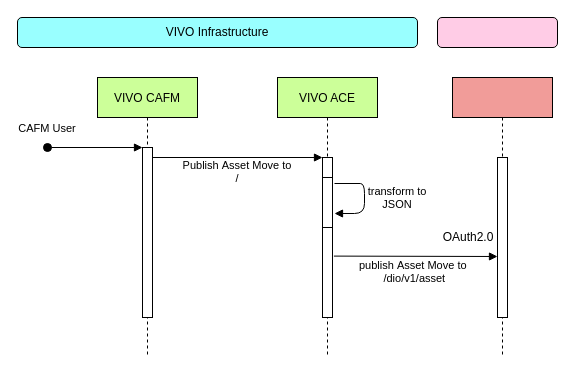
The diagram is 575 pixels wide and 375 high, and some of its shapes have lost their labels. Each missing label, with the box of its shape:
DIO: (452, 76, 552, 358)
DIO Infrastructure: (436, 16, 558, 48)
